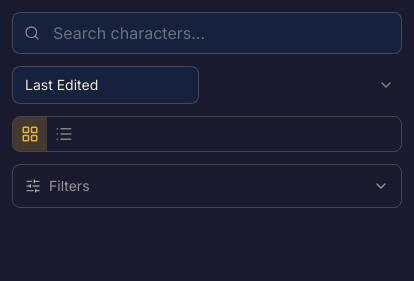
Scenario: Gallery — Mobile Layout (Story 44.1) › toggles filter visibility when mobile filter button is clicked
Note: Click to expand
Click the button with test id "mobile-filter-toggle" at (69, 186), box [12,164,402,208]
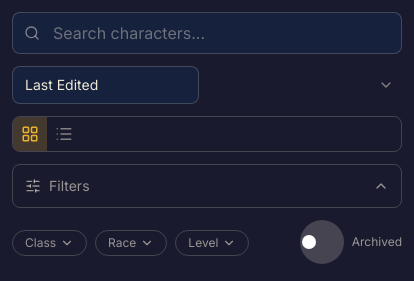
expect the button with test id "mobile-filter-toggle" is expanded: met, box [12,164,402,208]
